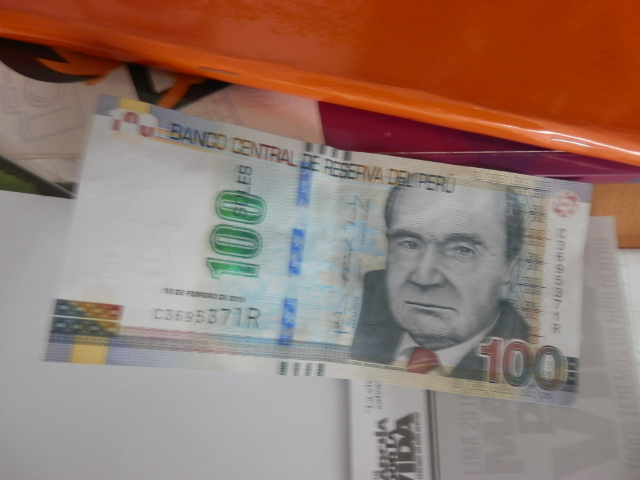B100: (42, 96, 606, 427)
